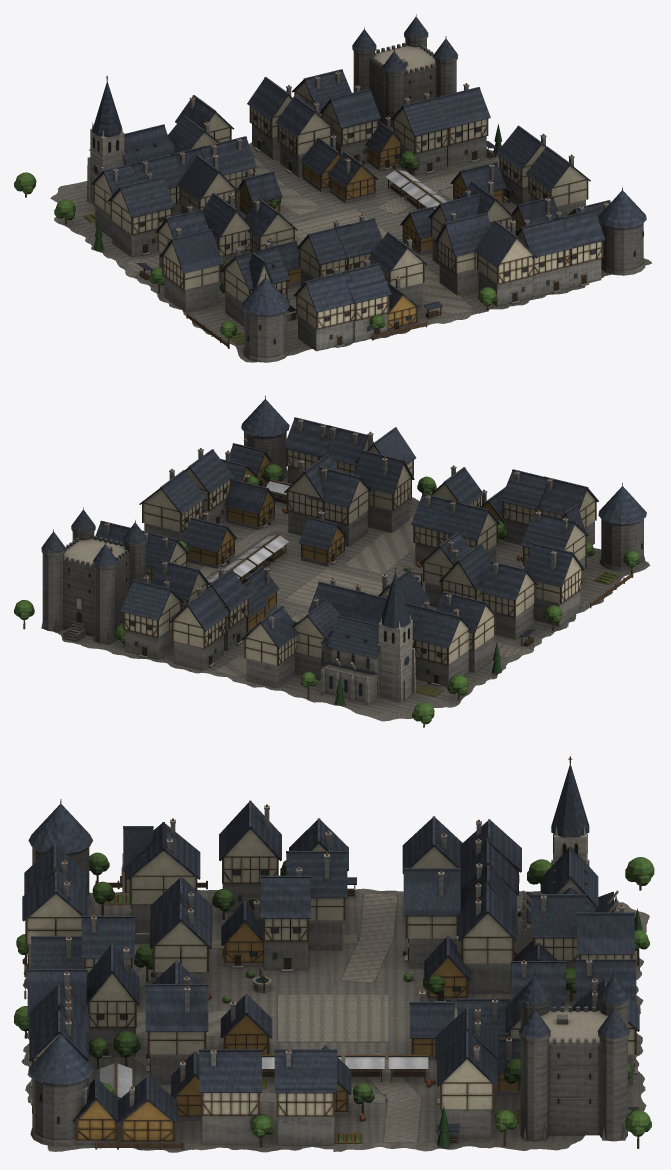
The model's file is kingdoms-town-big-a-europe.glb.
3 views of the same model, one above another, from view 1: azimuth 30°, elevation 25°; view 2: azimuth 150°, elevation 25°; view 3: azimuth 270°, elevation 25° (orthographic). The views are drawn at different scales.
Parts seen in each view (by area): view 1: LOD0; view 2: LOD0; view 3: LOD0.
Boxes of the visible parts, left/top/right/bottom form: LOD0: left=14, top=14, right=651, bottom=362; LOD0: left=14, top=395, right=650, bottom=727; LOD0: left=14, top=756, right=654, bottom=1152.
Size of what is drawn, in the model's own units: 8.11 by 2.39 by 8.14.
Materials: 3 (3 with a texture image).
